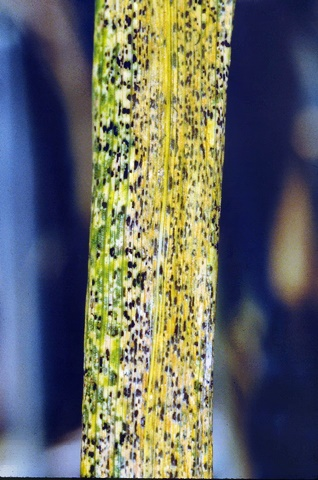Leaf Rust: (84, 14, 237, 464)
